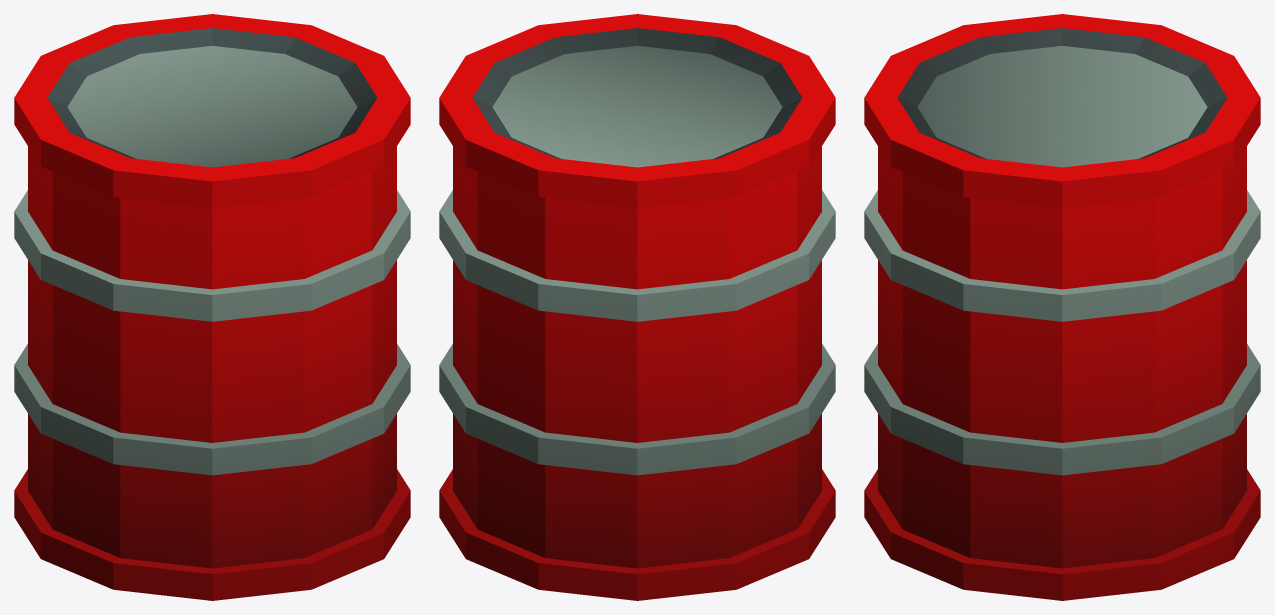
Rendered from barrel_005.fbx.
3 views of the same model, side by side, from view 1: azimuth 30°, elevation 25°; view 2: azimuth 150°, elevation 25°; view 3: azimuth 270°, elevation 25° (orthographic).
Visible parts, largest first — view 1: barrel.005; view 2: barrel.005; view 3: barrel.005.
Boxes of the visible parts, <box> form: barrel.005: <box>14,14,410,600</box>; barrel.005: <box>439,14,835,600</box>; barrel.005: <box>864,14,1260,600</box>.
Size of the model in its own units: 108 by 126 by 108.
